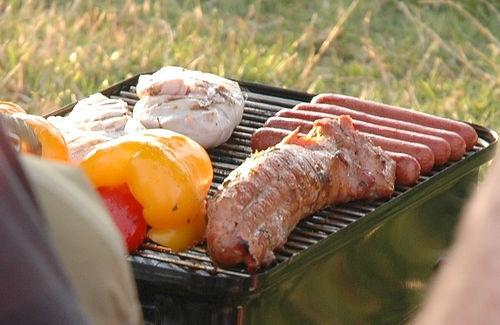bell pepper: (78, 128, 214, 251), (11, 113, 72, 163)
